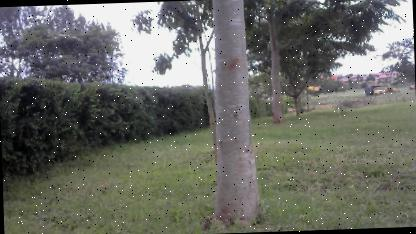tree: (198, 0, 264, 234), (0, 5, 126, 84)
